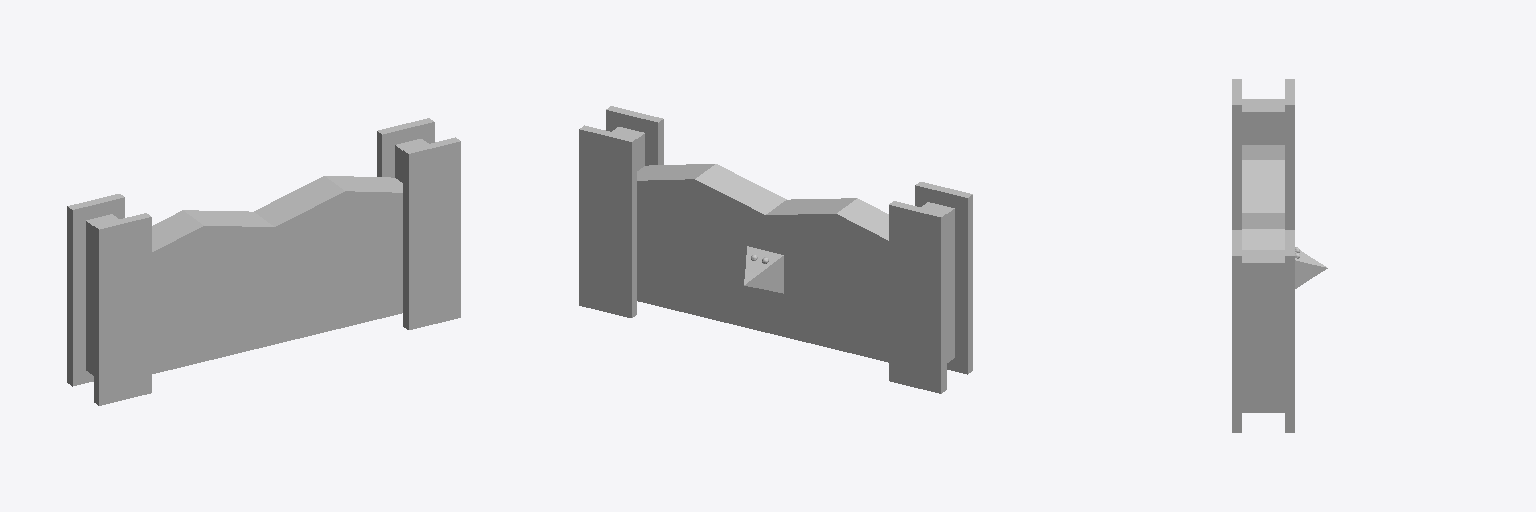
File: generic_object_crystalwall.obj
3 views of the same model, side by side, from view 1: azimuth 30°, elevation 25°; view 2: azimuth 150°, elevation 25°; view 3: azimuth 270°, elevation 25° (orthographic).
Parts seen in each view (by area): view 1: Cube; view 2: Cube; view 3: Cube.
Part boxes in pixels (x1,y1,x2,y2): Cube: (67,118,460,405); Cube: (579,106,972,393); Cube: (1232,79,1311,432).
Bounding box in the file's own units: 19.66 × 9.16 × 4.54.